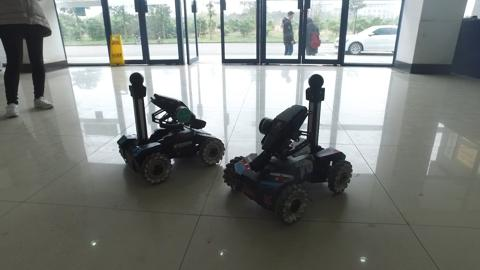chariot: (221, 65, 349, 232), (112, 67, 223, 188)
